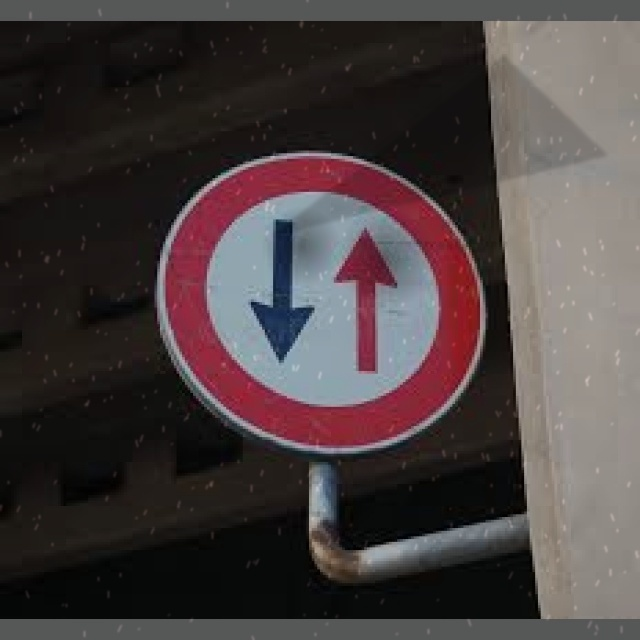Mandatory_Two_Way_Traffic: (159, 154, 503, 445)
